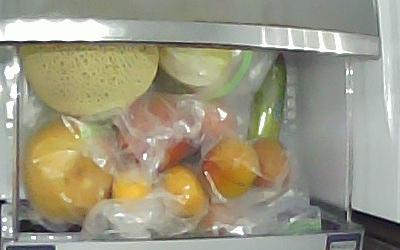cabbage_vinyl: (158, 44, 232, 86)
melon: (18, 43, 159, 115)
pear_vinyl: (21, 117, 117, 220)
prune_vinyl: (198, 135, 259, 199), (250, 136, 289, 189)
tangerine_vinyl: (156, 163, 206, 217), (110, 167, 154, 202)
tomato_vinyl: (114, 91, 189, 172)
zucchini: (246, 50, 287, 142)
